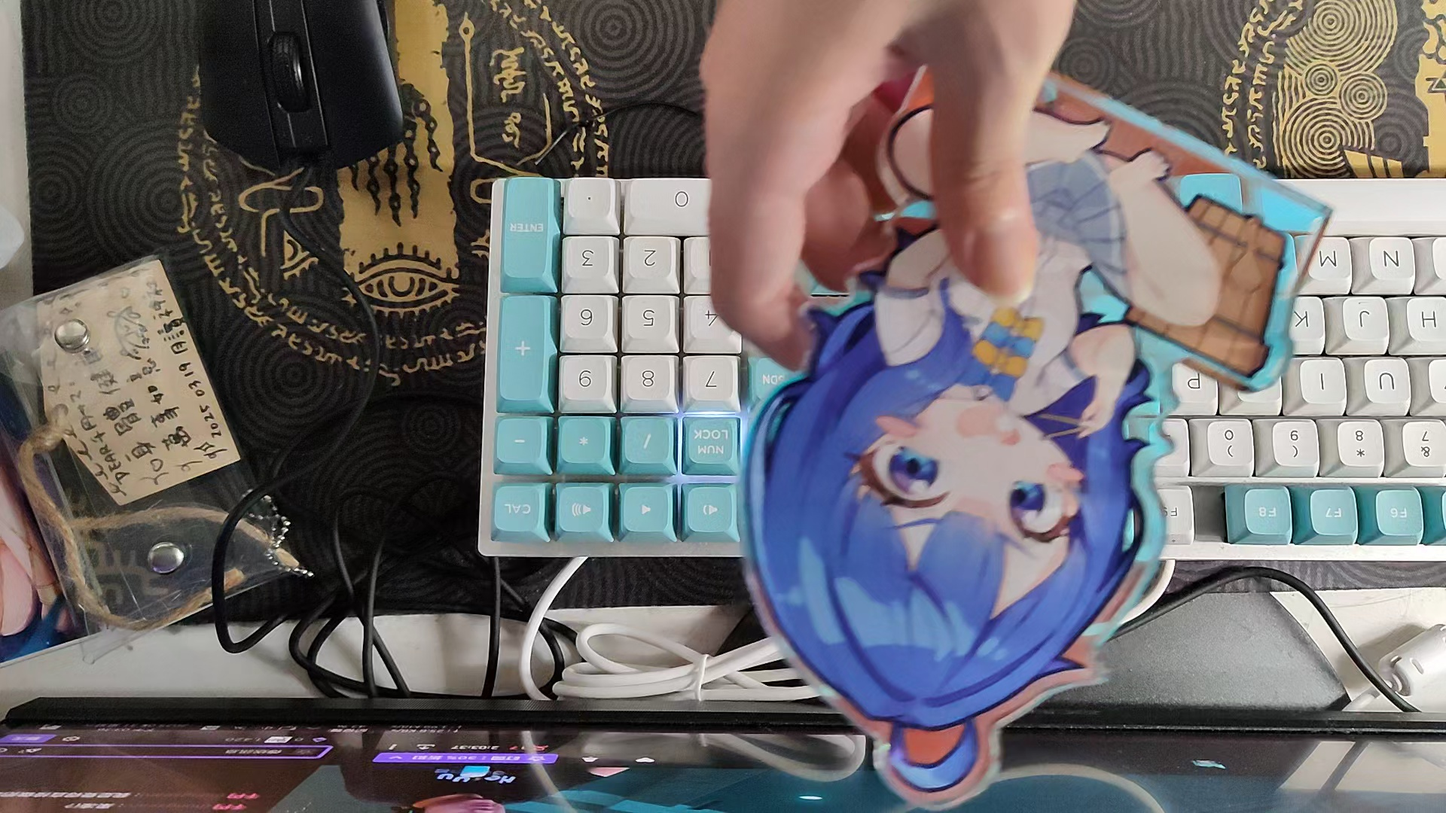Yanami-anna: (738, 26, 1335, 809)
